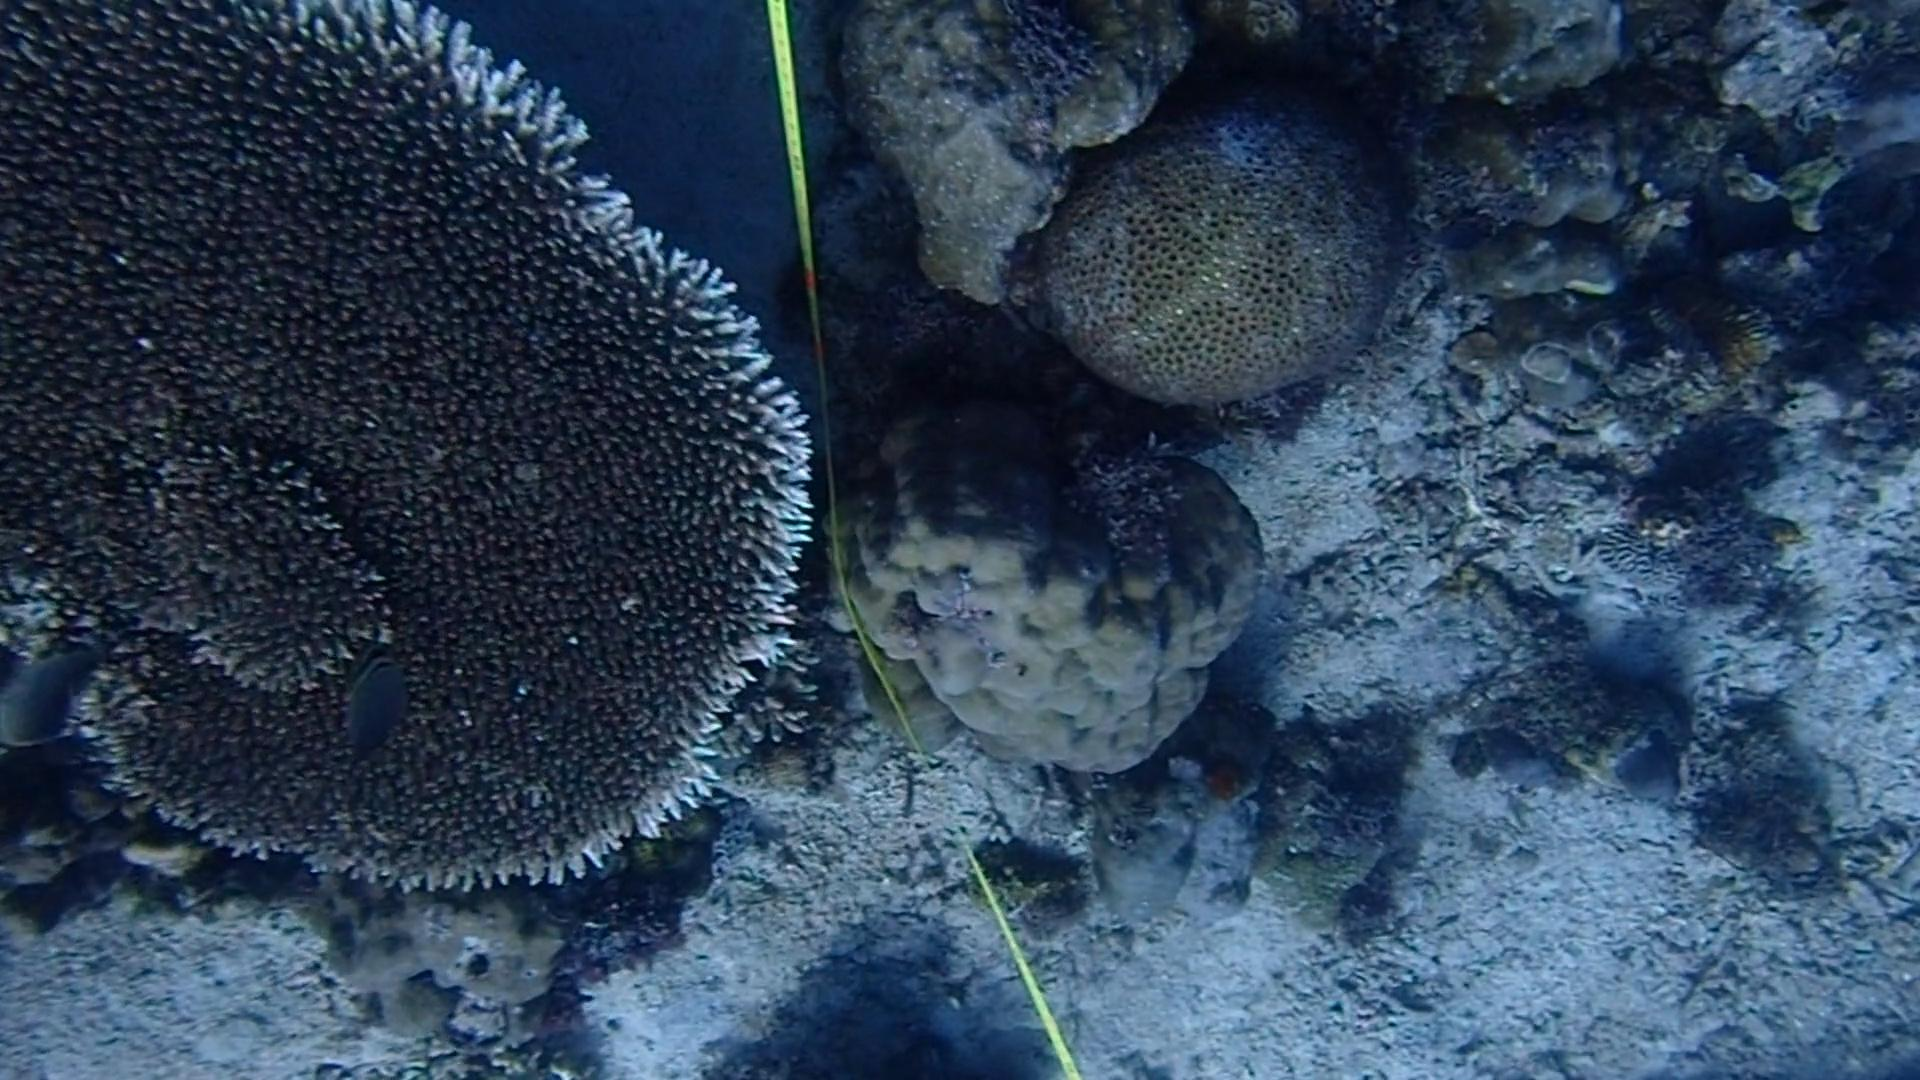Dark Blue Dory: (0, 621, 91, 756), (326, 653, 423, 765)
Light Fish: (1425, 203, 1494, 265)
